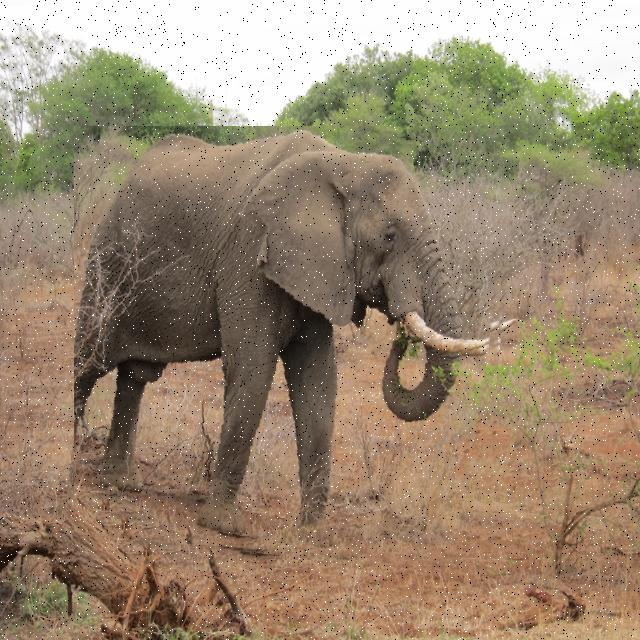elephant: (74, 126, 509, 566)
